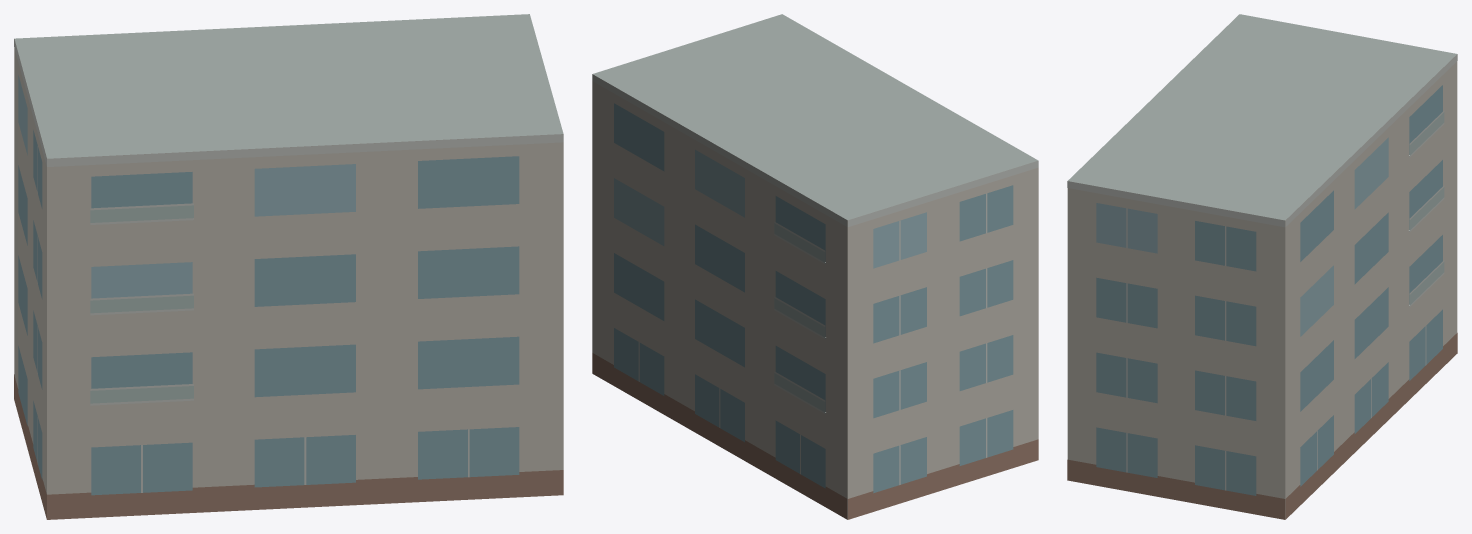
Rendered from survey-upis-32565346.glb.
The picture shows the model from 3 angles, left to right: view 1: azimuth 30°, elevation 25°; view 2: azimuth 150°, elevation 25°; view 3: azimuth 270°, elevation 25°; orthographic projection. The views are drawn at different scales.
Visible parts, largest first — view 1: survey-upis-32565346.tmp; view 2: survey-upis-32565346.tmp; view 3: survey-upis-32565346.tmp.
Part boxes in pixels (x1,y1,x2,y2): survey-upis-32565346.tmp: (14, 14, 563, 519); survey-upis-32565346.tmp: (592, 14, 1038, 519); survey-upis-32565346.tmp: (1067, 14, 1457, 519).
Size of the model in its own units: 15.54 by 10.5 by 12.4.
